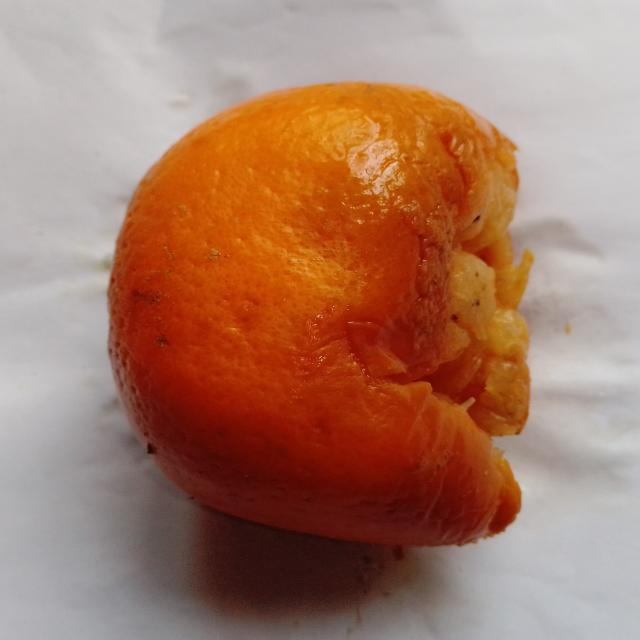orange: (109, 83, 529, 545)
